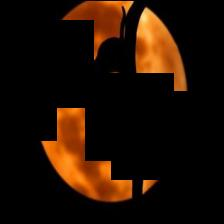green: (35, 1, 134, 200), (136, 8, 187, 192)
orange: (136, 8, 187, 192)
